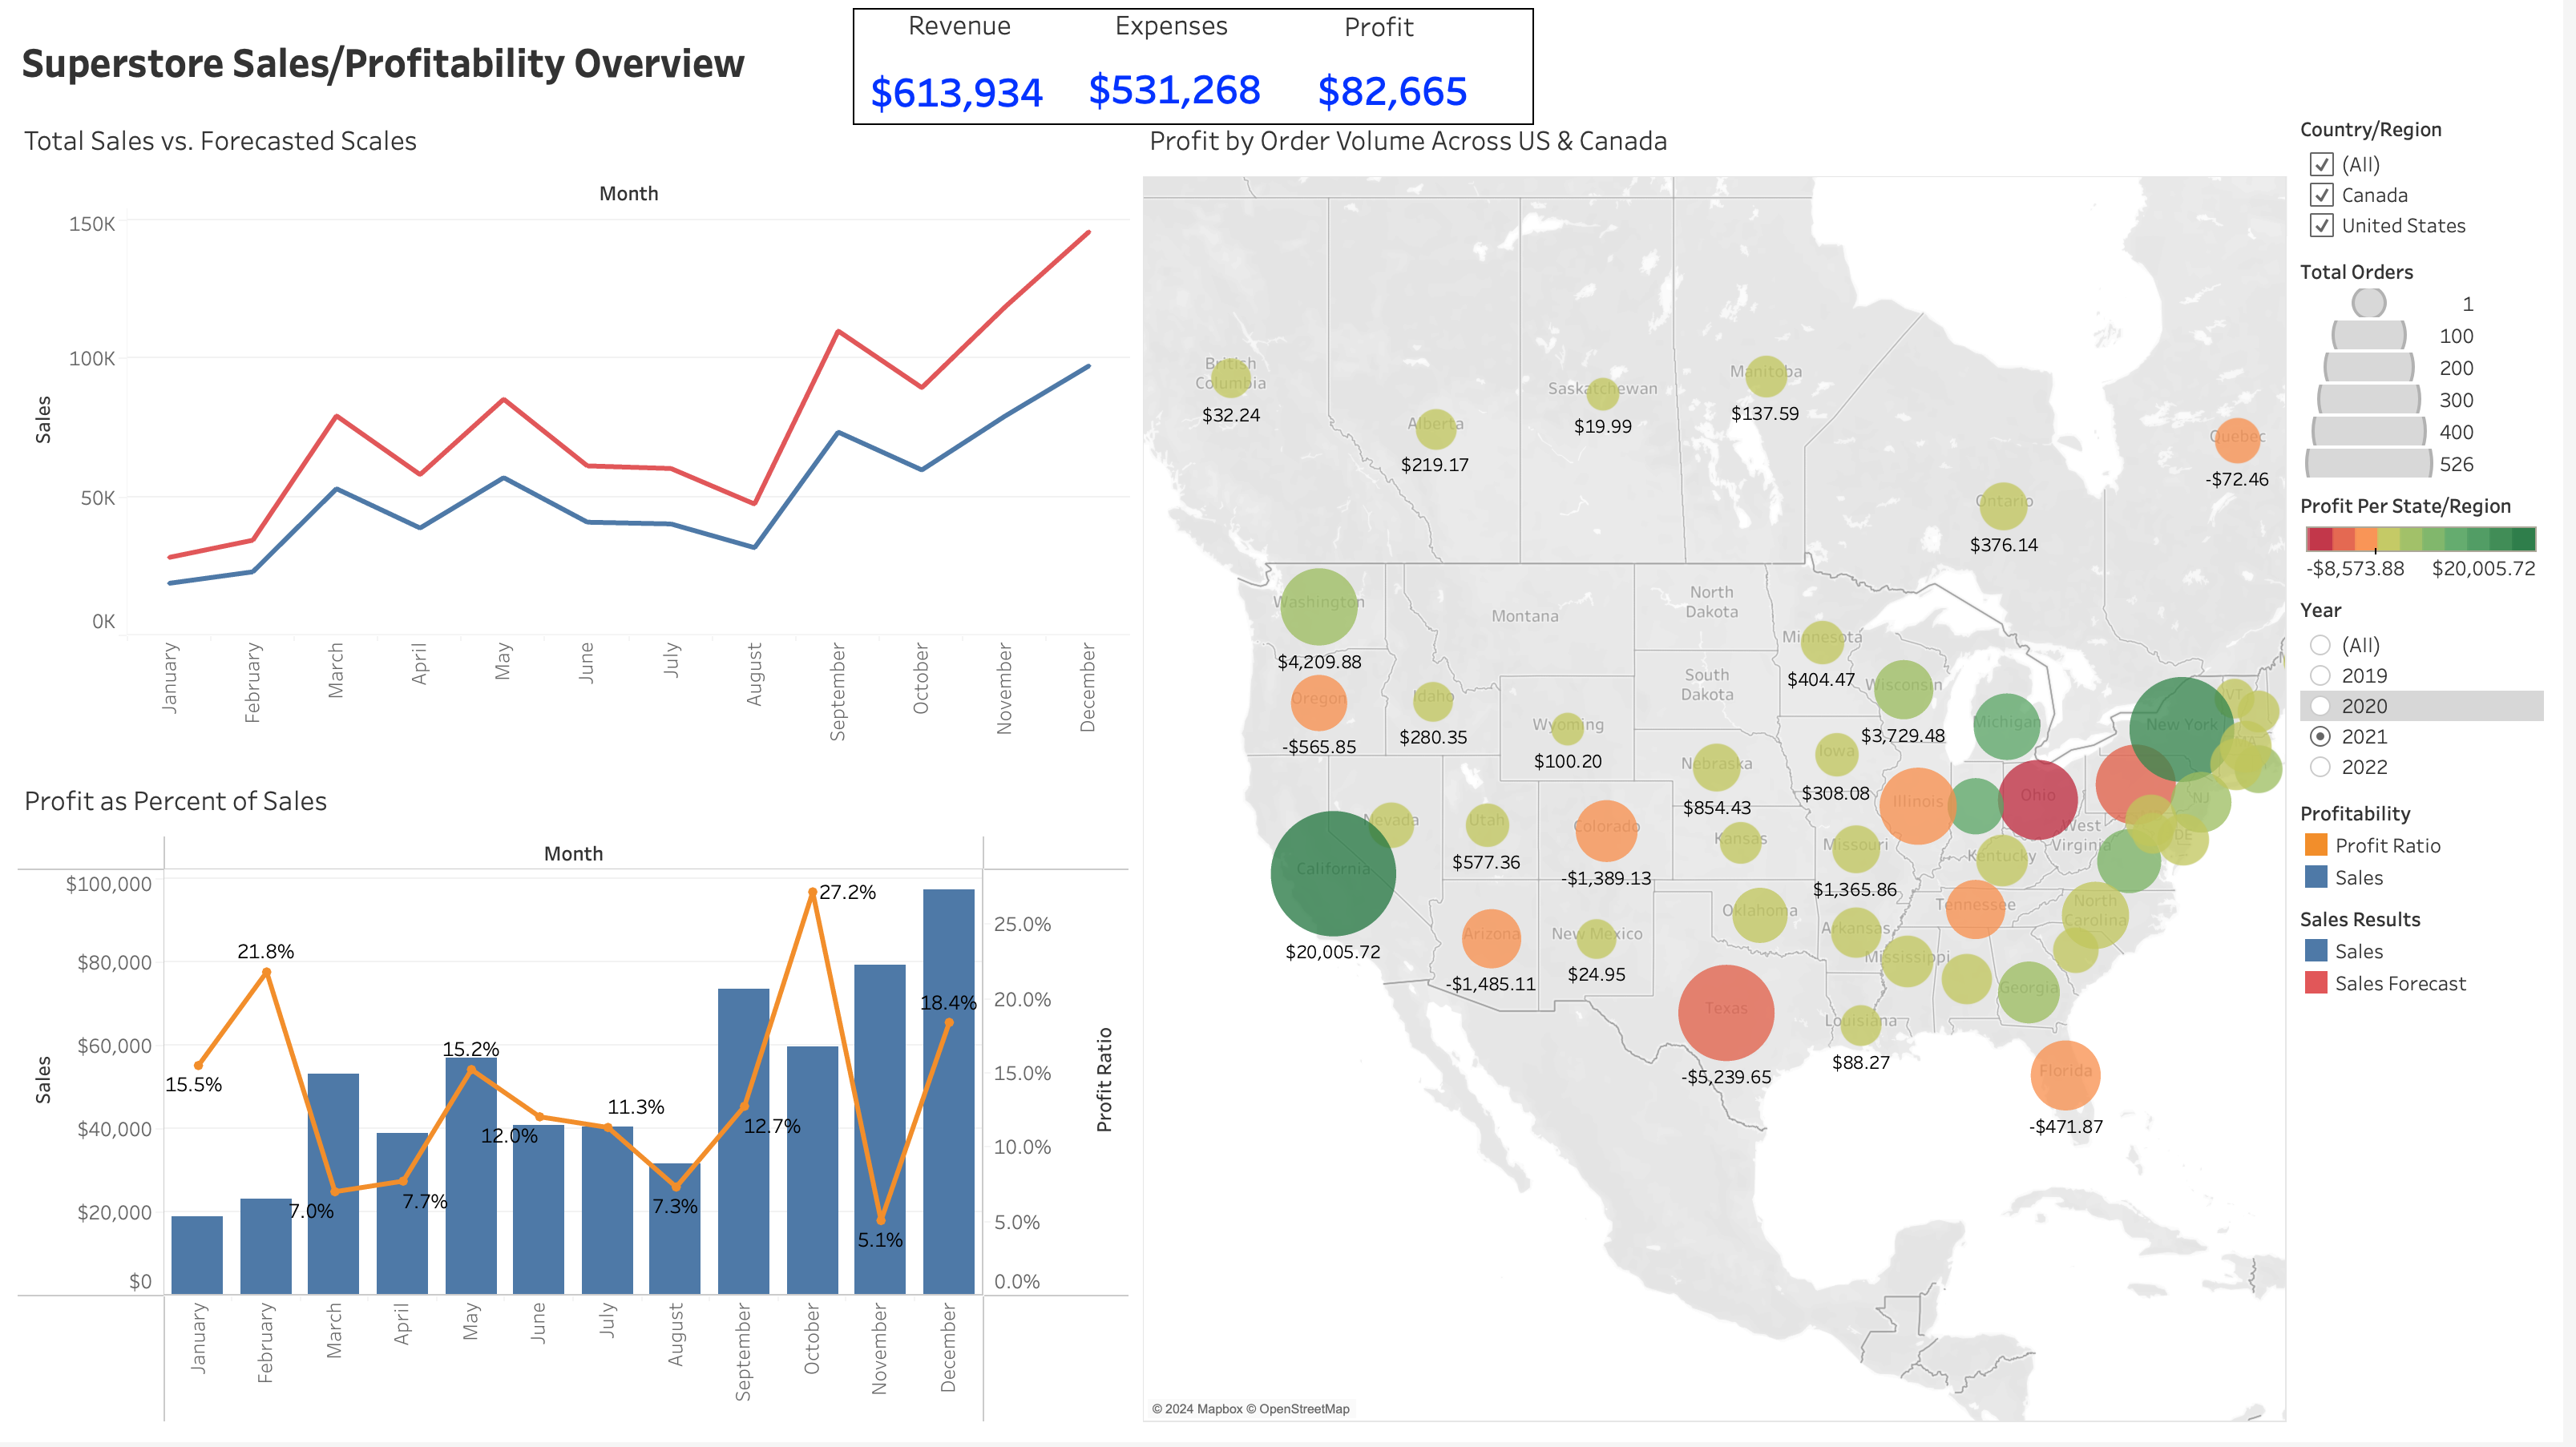

This screenshot's page, from the dashboard's own definition file:
{"tool":"tableau","page":{"name":"Dashboard 1","canvas":[1600,900],"ordinal":0},"visuals":[{"type":"worksheet","title":"Revenue","mark":"Automatic","box":[536,0,122,83]},{"type":"worksheet","title":"Expenses","mark":"Automatic","box":[672,0,126,85]},{"type":"worksheet","title":"Profit","mark":"Automatic","box":[801,1,146,92]},{"type":"blank","box":[533,5,425,73]},{"type":"title","box":[8,8,1584,60]},{"type":"worksheet","title":"Current Sales vs. Forecast","mark":"Line","cols":["Order Date"],"box":[8,68,702,412.1]},{"type":"worksheet","title":"Order and Profitability Map","mark":"Circle","box":[710,68,722,824]},{"type":"filter","title":"Order and Profitability Map","param":"[federated.10nnk8d1vgmw8q17yu76u06pnbcj].[none:Country/Region:nk]","box":[1432,68,160,89]},{"type":"legend","title":"Order and Profitability Map","param":"[federated.10nnk8d1vgmw8q17yu76u06pnbcj].[__tableau_internal_object_id__].[cnt:O","box":[1432,157,160,146]},{"type":"legend","title":"Order and Profitability Map","param":"[federated.10nnk8d1vgmw8q17yu76u06pnbcj].[sum:Profit:qk]","box":[1432,303,160,65]},{"type":"filter","title":"Proft vs. Sales","param":"[federated.10nnk8d1vgmw8q17yu76u06pnbcj].[yr:Order Date:ok]","box":[1432,368,160,127]},{"type":"worksheet","title":"Proft vs. Sales","mark":"Bar","rows":["Sales","Calculation_9921103144103743"],"cols":["Order Date"],"box":[8,480.1,702,411.9]},{"type":"legend","title":"Proft vs. Sales","param":"[federated.10nnk8d1vgmw8q17yu76u06pnbcj].[:Measure Names]","box":[1432,495,160,66]},{"type":"legend","title":"Current Sales vs. Forecast","param":"[federated.10nnk8d1vgmw8q17yu76u06pnbcj].[:Measure Names]","box":[1432,561,160,66]}]}

Visuals, with their boxes in screenshot pixels (x1, y1, x2, y2), scaled from the page's 1600x900 canvas onto the 2576x1447 screenshot:
"Revenue" worksheet: (left=863, top=0, right=1060, bottom=134)
"Expenses" worksheet: (left=1082, top=0, right=1285, bottom=137)
"Profit" worksheet: (left=1290, top=2, right=1524, bottom=150)
blank: (left=858, top=8, right=1542, bottom=126)
title: (left=13, top=13, right=2563, bottom=109)
"Current Sales vs. Forecast" worksheet (Line marks): (left=13, top=109, right=1143, bottom=772)
"Order and Profitability Map" worksheet (Circle marks): (left=1143, top=109, right=2306, bottom=1434)
"Order and Profitability Map" filter: (left=2306, top=109, right=2563, bottom=252)
"Order and Profitability Map" legend: (left=2306, top=252, right=2563, bottom=487)
"Order and Profitability Map" legend: (left=2306, top=487, right=2563, bottom=591)
"Proft vs. Sales" filter: (left=2306, top=591, right=2563, bottom=796)
"Proft vs. Sales" worksheet (Bar marks): (left=13, top=772, right=1143, bottom=1434)
"Proft vs. Sales" legend: (left=2306, top=796, right=2563, bottom=902)
"Current Sales vs. Forecast" legend: (left=2306, top=902, right=2563, bottom=1008)
